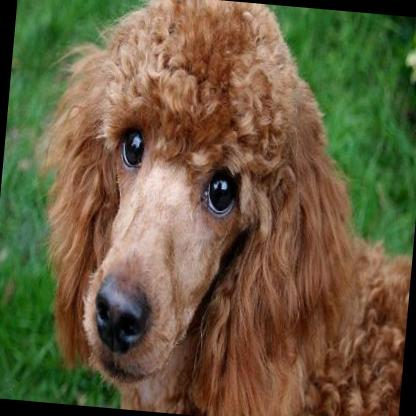miniature_poodle: (12, 0, 416, 416)
